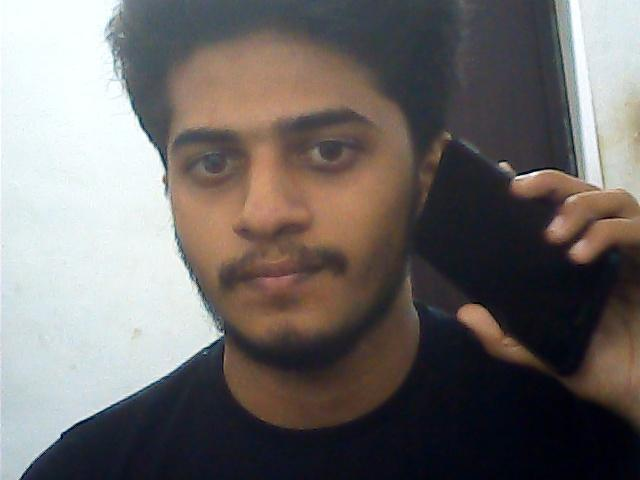PhoneUse: (408, 147, 616, 377)
SafeDriving: (171, 134, 258, 192), (284, 121, 372, 178)
